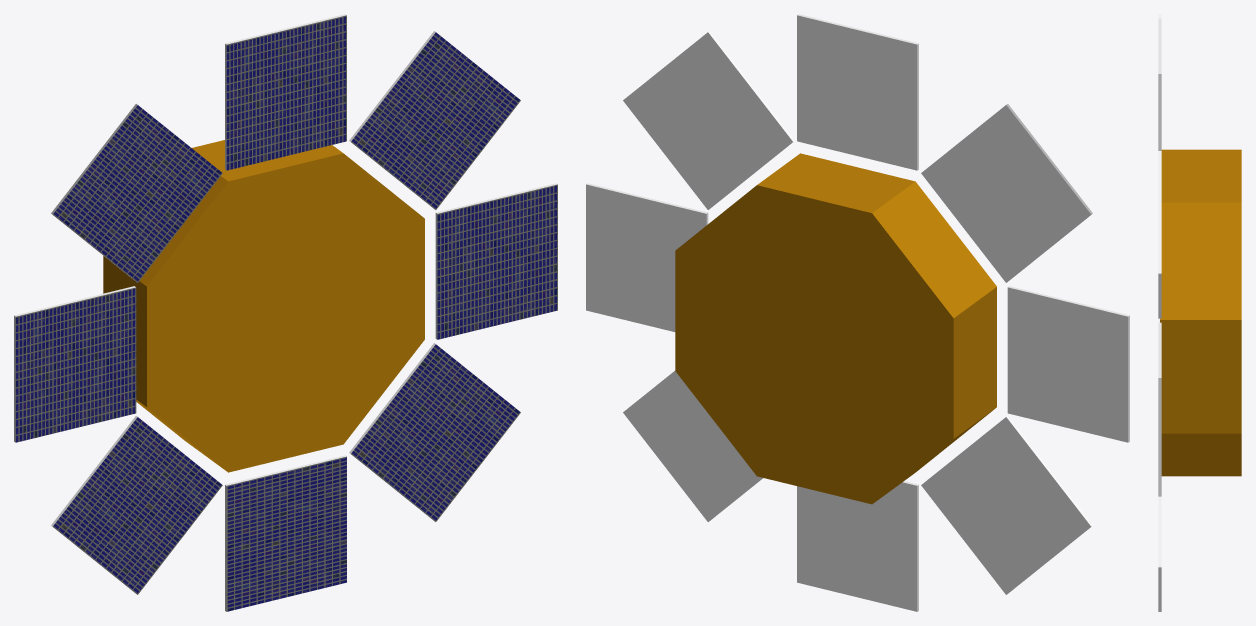
The model's file is Sunflower.obj.
3 renders of one model, left to right at view 1: azimuth 30°, elevation 25°; view 2: azimuth 150°, elevation 25°; view 3: azimuth 270°, elevation 25°, orthographic. The views are drawn at different scales.
Parts seen in each view (by area): view 1: cylinder19_SOLAR_CELL, cylinder19_GOLD_FOIL, cylinder19_FLAT_WHITE; view 2: cylinder19_FLAT_WHITE, cylinder19_GOLD_FOIL; view 3: cylinder19_GOLD_FOIL, cylinder19_FLAT_WHITE.
Boxes of the visible parts, <box> form: cylinder19_SOLAR_CELL: <box>15,15,557,611</box>; cylinder19_GOLD_FOIL: <box>103,140,424,472</box>; cylinder19_FLAT_WHITE: <box>14,14,557,611</box>; cylinder19_FLAT_WHITE: <box>586,14,1129,611</box>; cylinder19_GOLD_FOIL: <box>675,153,996,504</box>; cylinder19_GOLD_FOIL: <box>1160,149,1241,476</box>; cylinder19_FLAT_WHITE: <box>1158,14,1161,611</box>.
Size of the model in its own units: 3.6 by 3.6 by 0.51.
